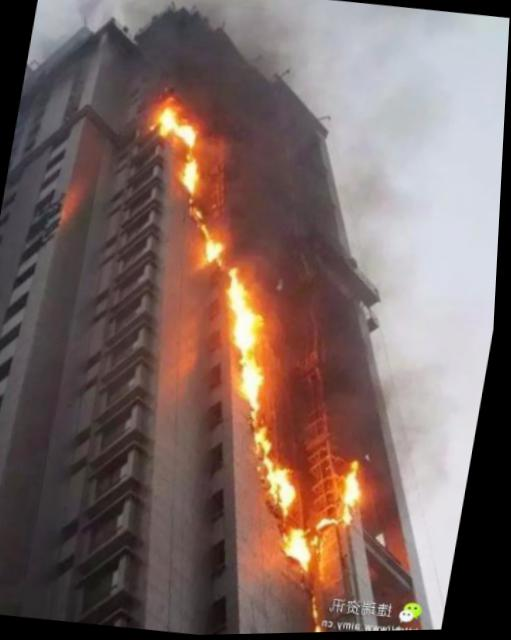fire: (272, 465, 308, 518), (246, 354, 275, 412), (285, 526, 322, 570), (349, 460, 372, 526), (236, 307, 268, 351), (229, 265, 260, 308), (258, 423, 283, 465), (161, 98, 187, 136), (182, 154, 204, 191), (205, 237, 229, 265), (181, 121, 200, 147), (323, 518, 346, 531)
